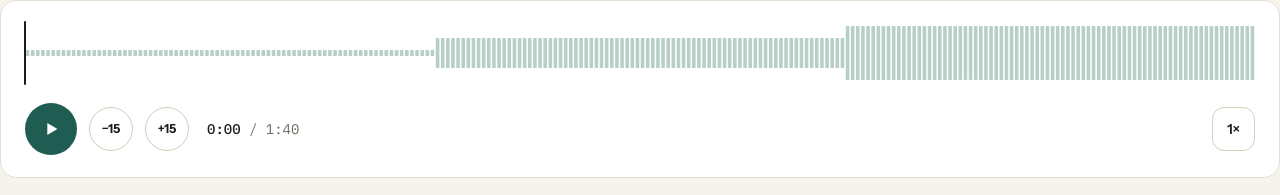
Test case: SermonPlayer › cycles the speed
What coordinates should you click on to do the following:
click the button named "playback speed"
I would click on:
 (1234, 129)
Its box is [1212,107,1255,151].
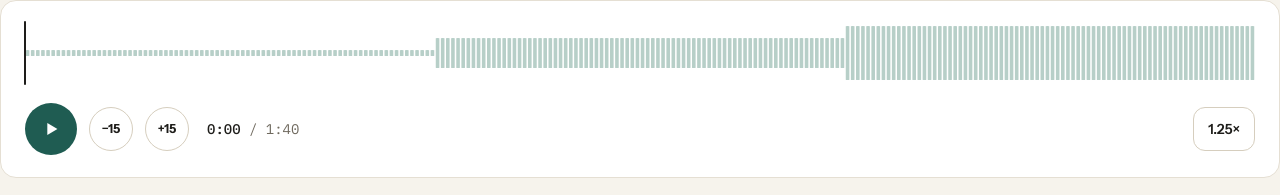
Now the button named "playback speed" reads "1.25×", box [1193,107,1255,151]
